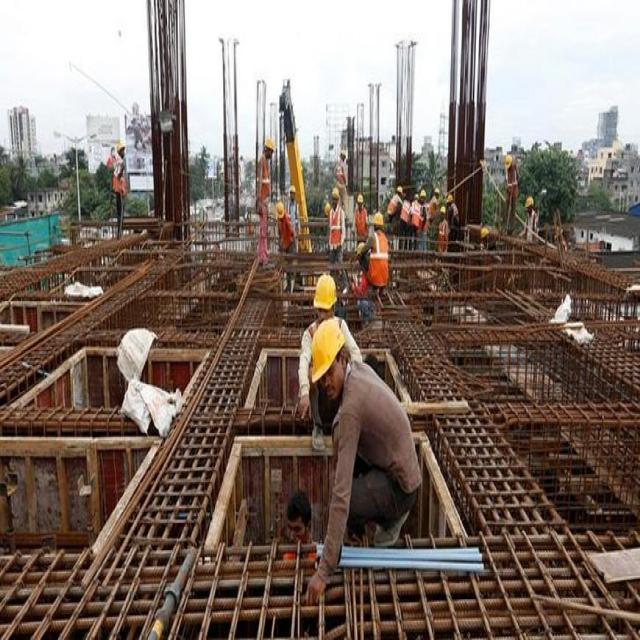Reflective-Jacket: (368, 230, 390, 289), (256, 155, 271, 206), (328, 204, 344, 248)
Safety-Helmet: (308, 317, 347, 384), (116, 323, 158, 385), (312, 271, 338, 312), (275, 200, 286, 221), (373, 211, 385, 229), (263, 134, 275, 152), (115, 136, 126, 154), (330, 186, 341, 202), (289, 184, 297, 197)
